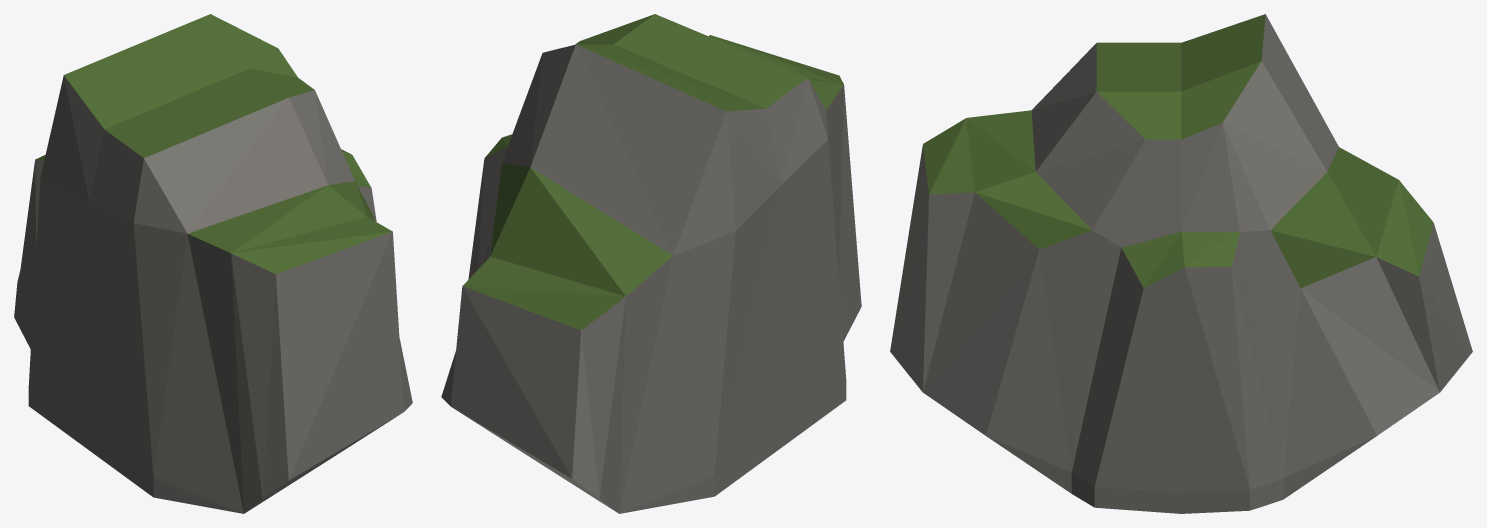
Rendered from boulder_1.glb.
3 views of the same model, side by side, from view 1: azimuth 30°, elevation 25°; view 2: azimuth 150°, elevation 25°; view 3: azimuth 270°, elevation 25° (orthographic). The views are drawn at different scales.
Visible parts, largest first — view 1: lod0; view 2: lod0; view 3: lod0.
Boxes of the visible parts, left/top/right/bottom form: lod0: left=14, top=14, right=412, bottom=513; lod0: left=441, top=14, right=861, bottom=513; lod0: left=890, top=14, right=1472, bottom=513.
Size of what is drawn, in the model's own units: 2.55 by 3.25 by 4.29.
